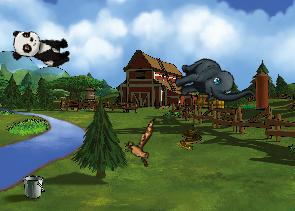eagle: (120, 118, 162, 170)
elephant: (169, 44, 255, 122)
panda: (9, 28, 73, 68)
